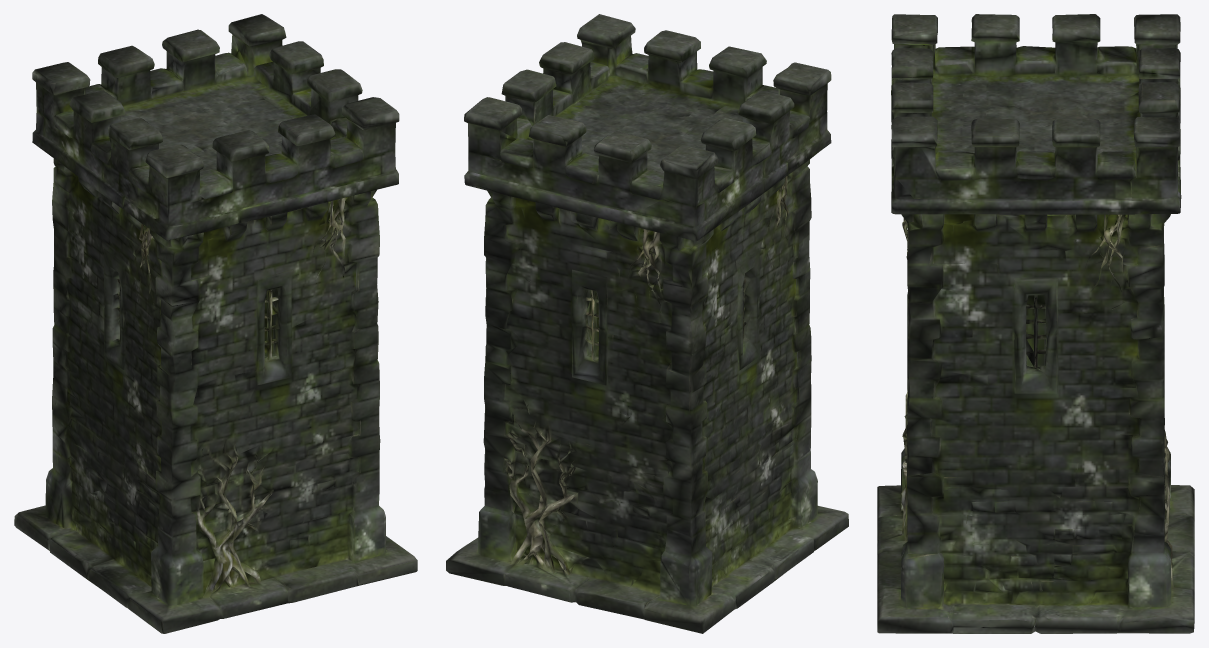
Rendered from briarhold-watchtower-512.glb.
3 renders of one model, left to right at view 1: azimuth 30°, elevation 25°; view 2: azimuth 150°, elevation 25°; view 3: azimuth 270°, elevation 25°, orthographic. The views are drawn at different scales.
Parts seen in each view (by area): view 1: briarhold-watchtower; view 2: briarhold-watchtower; view 3: briarhold-watchtower.
Boxes of the visible parts, x1,y1,x2,y2 form: briarhold-watchtower: (14,14,417,633); briarhold-watchtower: (446,14,848,633); briarhold-watchtower: (877,14,1194,633).
Bounding box in the file's own units: 7 × 12 × 7.
1 material, 1 textured.
